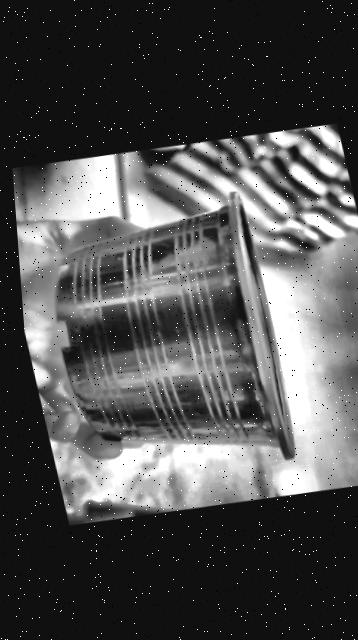pot: (55, 192, 293, 457)
